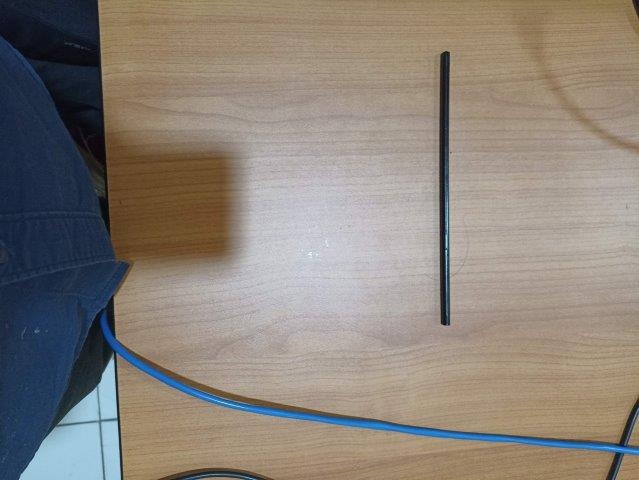sedotan: (439, 51, 450, 325)
